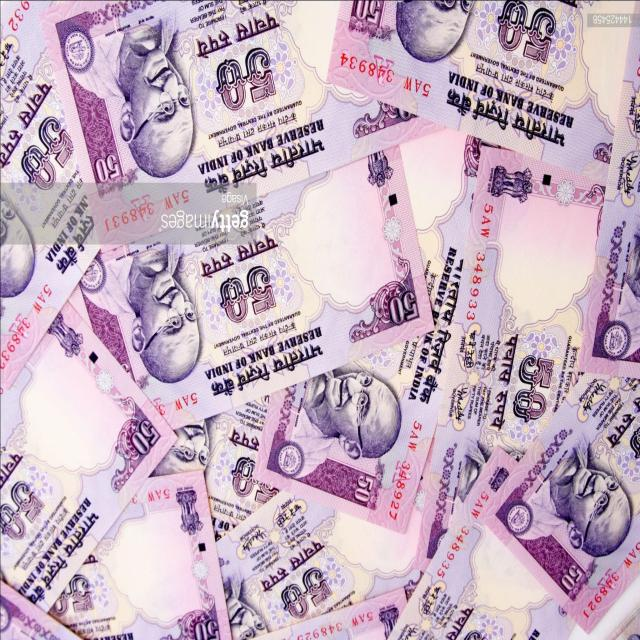50IndianRupees: (89, 141, 438, 409)
